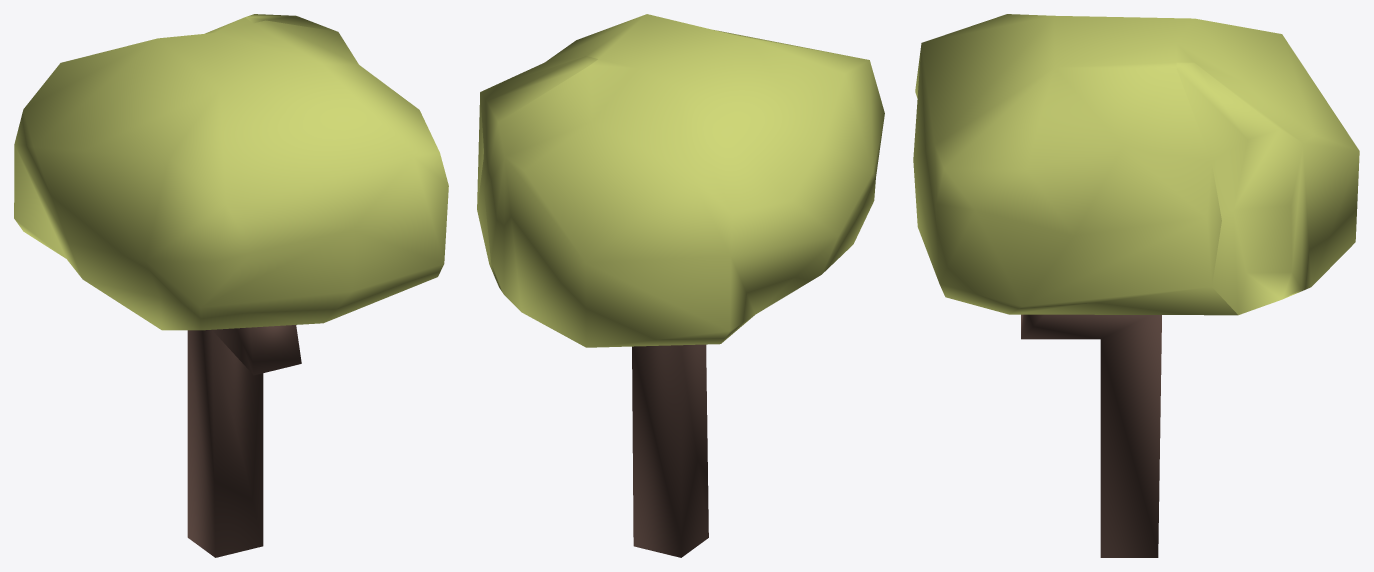
The model's file is TreeDesertSmoothbb.fbx.
The picture shows the model from 3 angles, left to right: view 1: azimuth 30°, elevation 25°; view 2: azimuth 150°, elevation 25°; view 3: azimuth 270°, elevation 25°; orthographic projection. The views are drawn at different scales.
Parts seen in each view (by area): view 1: TreeCrown, TreeTrunk; view 2: TreeCrown, TreeTrunk; view 3: TreeCrown, TreeTrunk.
Boxes of the visible parts, bbox=[...] form: TreeCrown: bbox=[14, 14, 448, 330]; TreeTrunk: bbox=[187, 325, 301, 557]; TreeCrown: bbox=[477, 14, 884, 347]; TreeTrunk: bbox=[632, 344, 708, 557]; TreeCrown: bbox=[913, 14, 1359, 315]; TreeTrunk: bbox=[1021, 314, 1161, 557].
Bounding box in the file's own units: 326 × 480 × 381.
